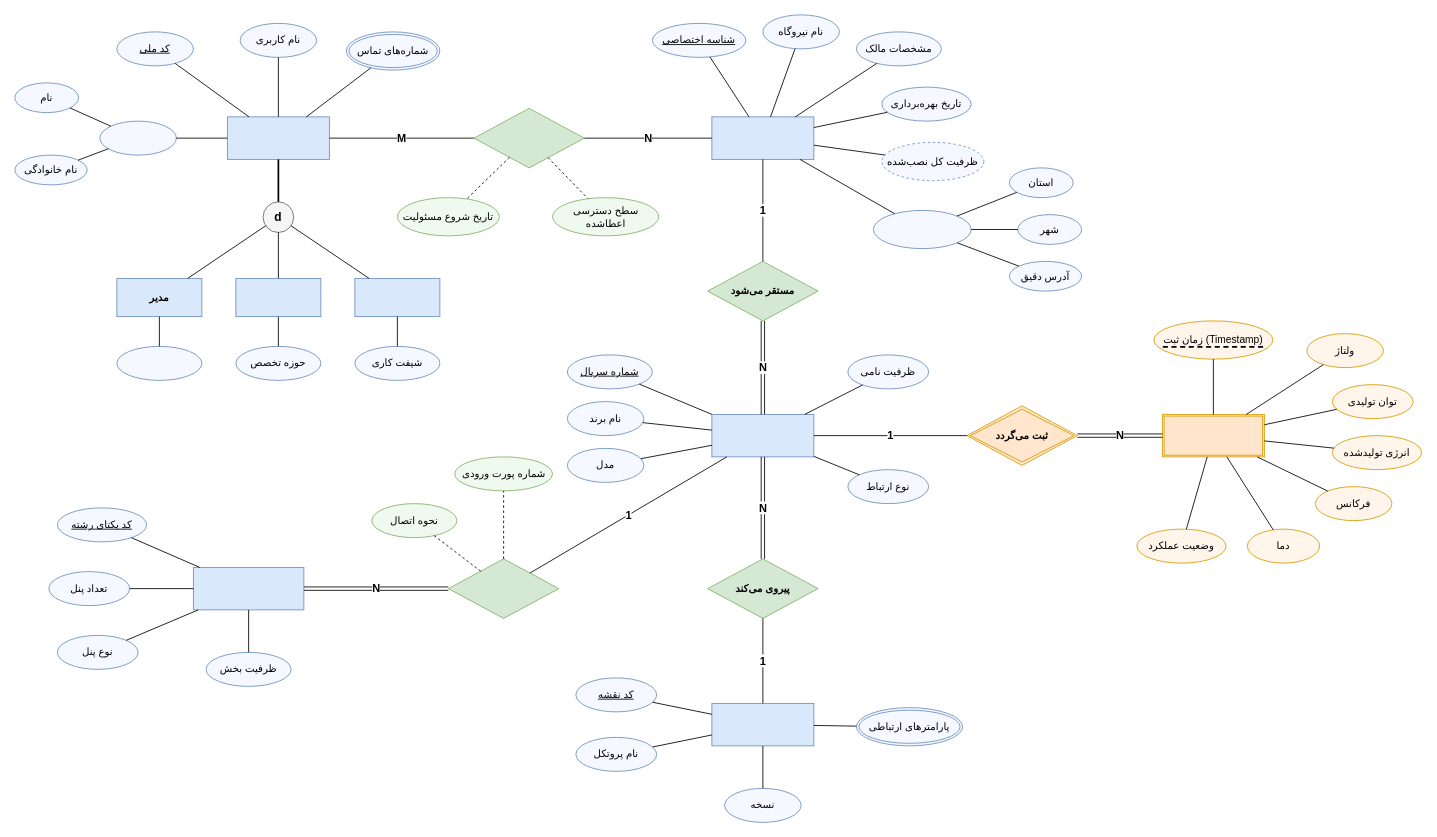
Some shapes in this 1437 by 837 pixel diagram are drawn without their labels. The shapes that lost their labels are listed below. From the top down, each one's centre as x and y in pixels, then its label:
[137,137]: نام کامل
[278,137]: کاربر
[528,138]: تخصیص می‌یابد
[762,137]: نیروگاه
[922,229]: موقعیت جغرافیایی
[278,297]: کارشناس
[397,297]: اپراتور
[159,363]: سطح ارشدیت
[762,435]: اینورتر
[1213,435]: داده عملکردی
[248,588]: رشته پنل (String)
[503,588]: متصل می‌شود
[762,724]: نقشه رجیستر
